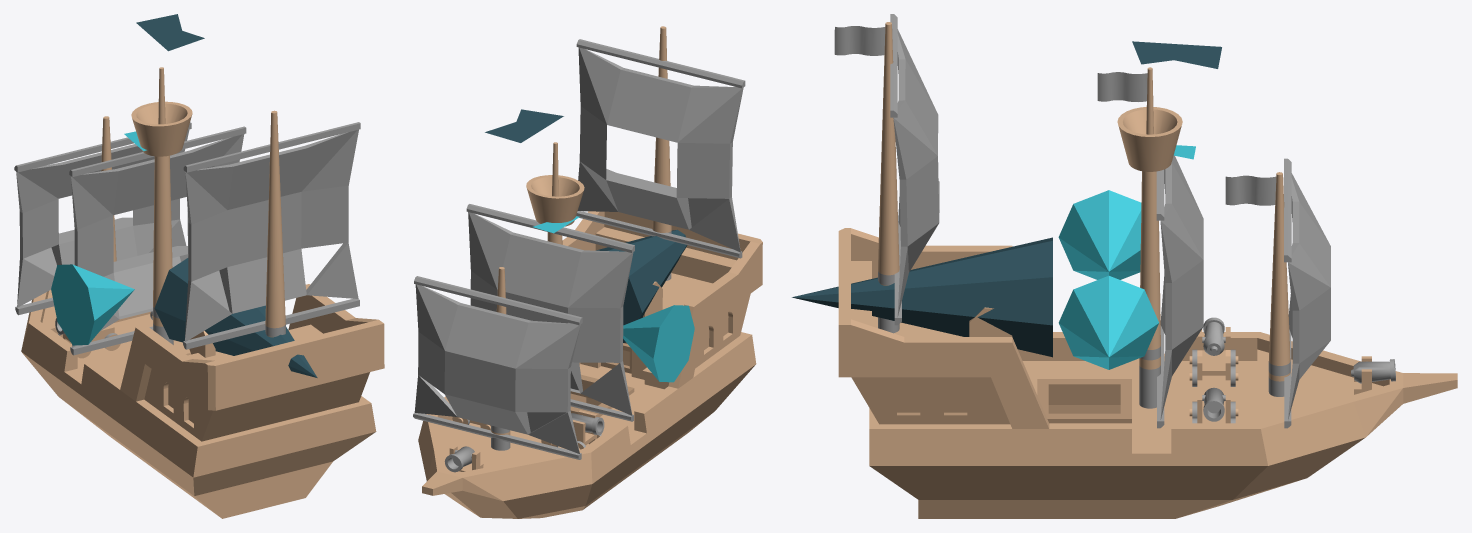
Rendered from ile_02_requin_noir_anime.glb.
The picture shows the model from 3 angles, left to right: view 1: azimuth 30°, elevation 25°; view 2: azimuth 150°, elevation 25°; view 3: azimuth 270°, elevation 25°; orthographic projection. The views are drawn at different scales.
Parts seen in each view (by area): view 1: navire_pirate_sombre_assimp, Eperon_Requin, Aileron.001, Grand_Pavillon; view 2: navire_pirate_sombre_assimp, Aileron.001, Eperon_Requin, Grand_Pavillon; view 3: navire_pirate_sombre_assimp, Eperon_Requin, Aileron, Aileron.001, Grand_Pavillon.
Boxes of the visible parts, x1,y1,x2,y2 form: navire_pirate_sombre_assimp: [14, 67, 384, 518]; Eperon_Requin: [154, 258, 317, 377]; Aileron.001: [51, 264, 134, 345]; Grand_Pavillon: [136, 14, 204, 51]; navire_pirate_sombre_assimp: [413, 26, 762, 518]; Aileron.001: [623, 305, 694, 382]; Eperon_Requin: [596, 229, 687, 342]; Grand_Pavillon: [485, 109, 563, 142]; navire_pirate_sombre_assimp: [834, 14, 1457, 518]; Eperon_Requin: [792, 237, 1052, 357]; Aileron: [1058, 275, 1158, 369]; Aileron.001: [1058, 190, 1141, 279]; Grand_Pavillon: [1132, 41, 1221, 68].
Size of the model in its own units: 35.69 by 64.2 by 82.31.
